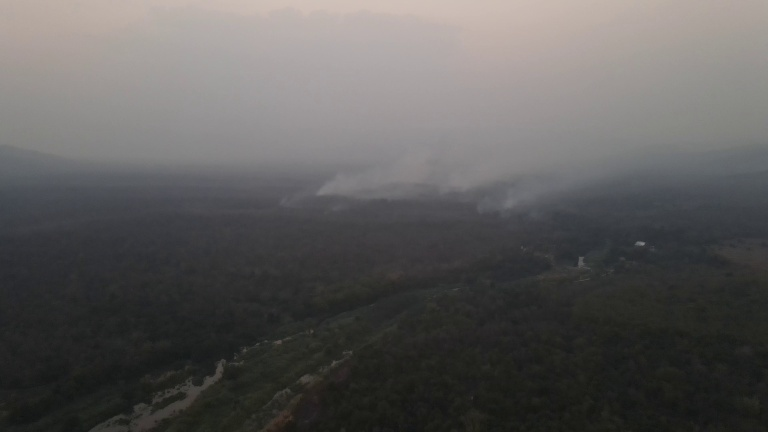smoke: (313, 132, 548, 224)
